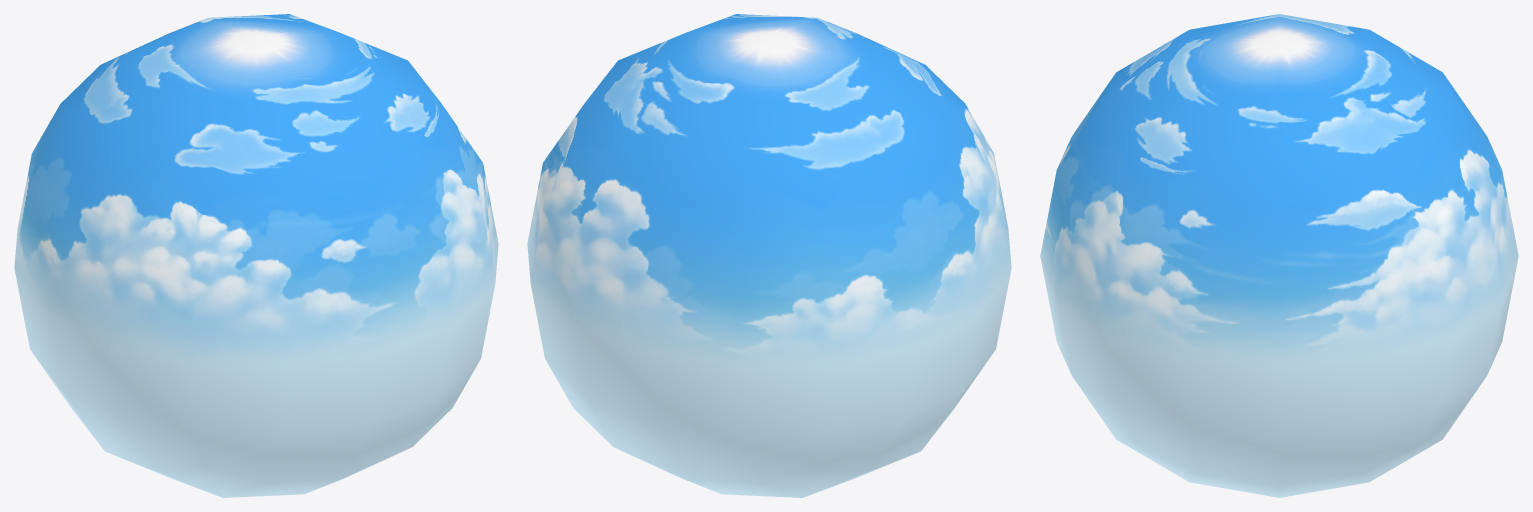
Rendered from skybox.glb.
3 renders of one model, left to right at view 1: azimuth 30°, elevation 25°; view 2: azimuth 150°, elevation 25°; view 3: azimuth 270°, elevation 25°, orthographic.
Visible parts, largest first — view 1: Cube.001; view 2: Cube.001; view 3: Cube.001.
Boxes of the visible parts, <box> form: Cube.001: <box>14,14,498,497</box>; Cube.001: <box>527,14,1011,497</box>; Cube.001: <box>1040,14,1518,497</box>.
Bounding box in the file's own units: 125 × 125 × 125.
Materials: 1 (1 with a texture image).
